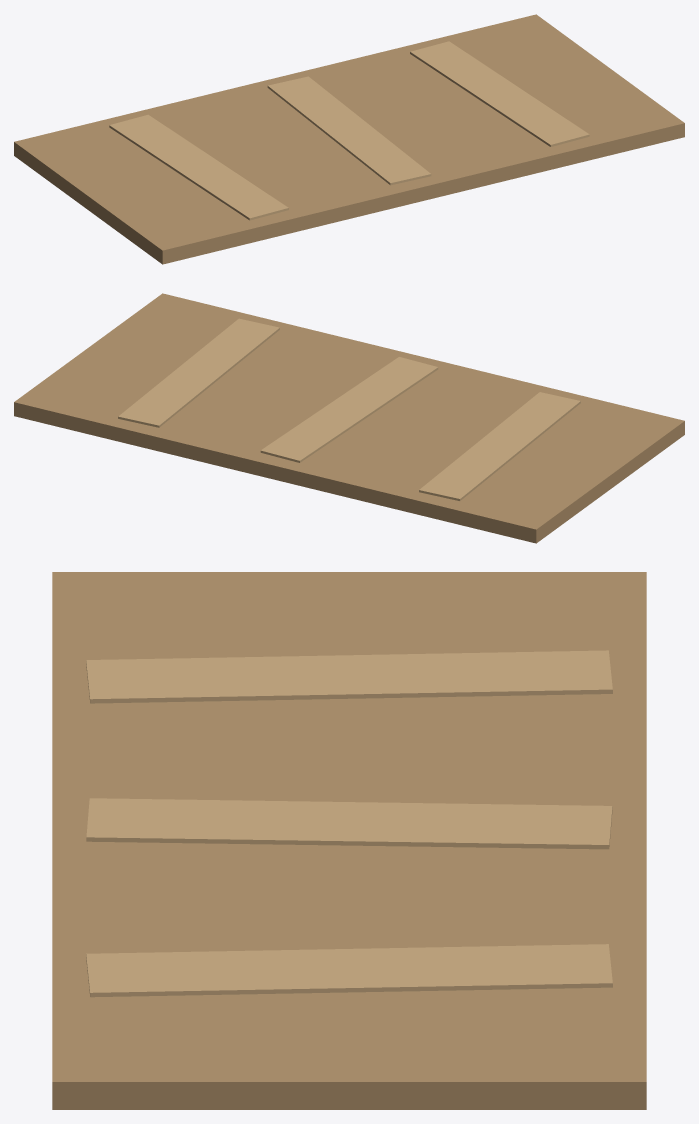
The model's file is track_dirt_3lane.glb.
3 views of the same model, one above another, from view 1: azimuth 30°, elevation 25°; view 2: azimuth 150°, elevation 25°; view 3: azimuth 270°, elevation 25° (orthographic). The views are drawn at different scales.
Parts seen in each view (by area): view 1: track_dirt_3lane; view 2: track_dirt_3lane; view 3: track_dirt_3lane.
Part boxes in pixels (x1,y1,x2,y2): track_dirt_3lane: (14, 14, 684, 264); track_dirt_3lane: (14, 293, 684, 543); track_dirt_3lane: (52, 572, 646, 1109).
Size of the model in its own units: 6.25 by 0.1905 by 3.08.
